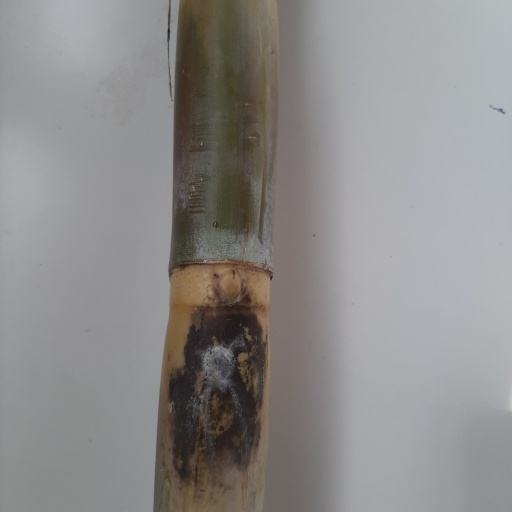Bud: (216, 268, 242, 306)
